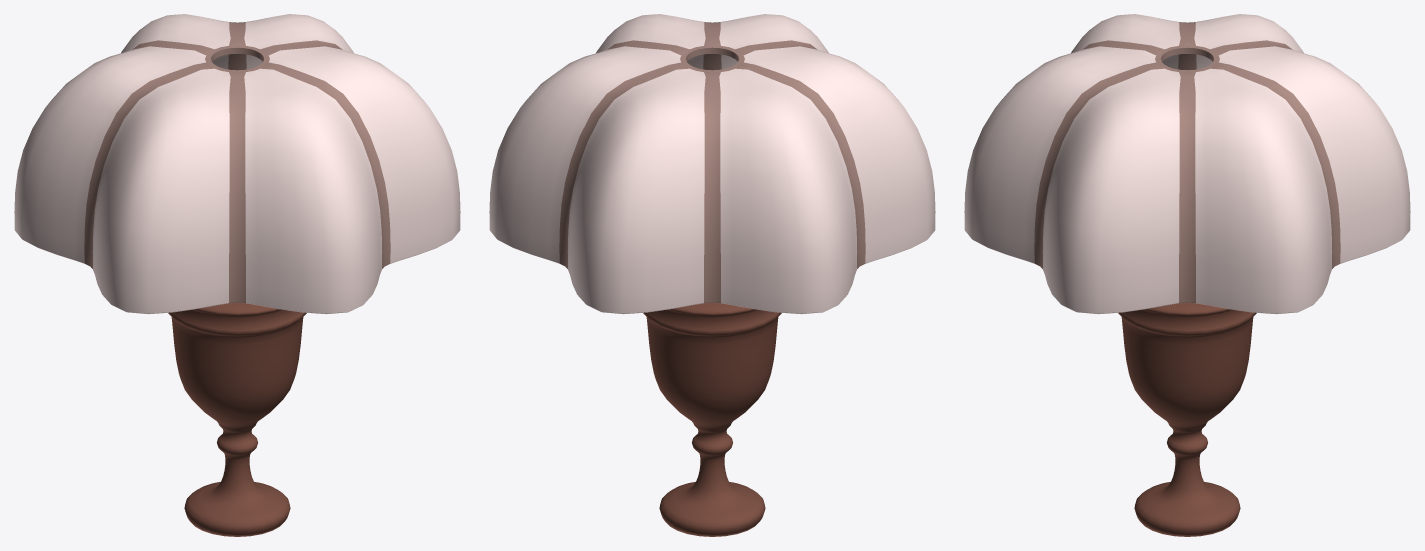
The model's file is Public_2_Lamp_1.glb.
3 views of the same model, side by side, from view 1: azimuth 30°, elevation 25°; view 2: azimuth 150°, elevation 25°; view 3: azimuth 270°, elevation 25° (orthographic).
Parts seen in each view (by area): view 1: Public_2_Lamp_1; view 2: Public_2_Lamp_1; view 3: Public_2_Lamp_1.
Boxes of the visible parts, x1,y1,x2,y2 form: Public_2_Lamp_1: (14,14,460,536); Public_2_Lamp_1: (489,14,935,536); Public_2_Lamp_1: (964,14,1410,536).
Bounding box in the file's own units: 1.52 × 1.94 × 1.71.
Materials: 1 (1 with a texture image).
